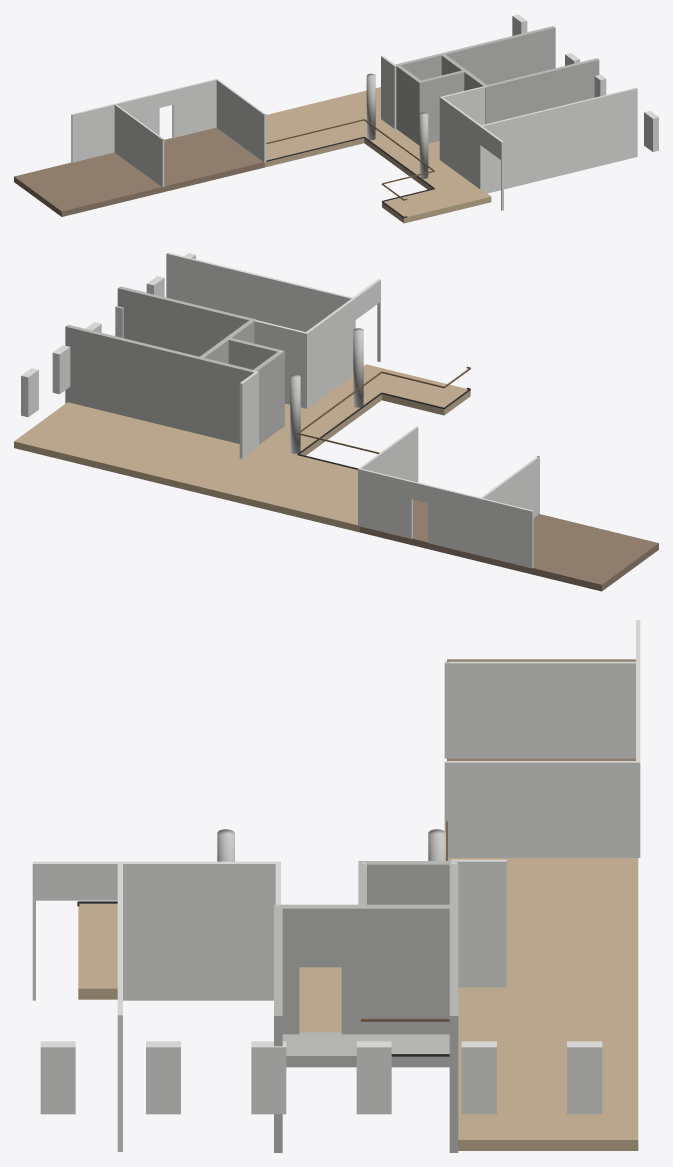
Rendered from SM_Bygg_Helgasetr_P4_O_MN.fbx.
The picture shows the model from 3 angles, top to bottom: view 1: azimuth 30°, elevation 25°; view 2: azimuth 150°, elevation 25°; view 3: azimuth 270°, elevation 25°; orthographic projection. The views are drawn at different scales.
Visible parts, largest first — view 1: SM_Bygg_Helgasetr_P4_O_MN; view 2: SM_Bygg_Helgasetr_P4_O_MN; view 3: SM_Bygg_Helgasetr_P4_O_MN.
Part boxes in pixels (x1,y1,x2,y2): SM_Bygg_Helgasetr_P4_O_MN: [14, 14, 658, 223]; SM_Bygg_Helgasetr_P4_O_MN: [14, 252, 658, 591]; SM_Bygg_Helgasetr_P4_O_MN: [32, 620, 640, 1152].
Size of the model in its own units: 17.31 by 32.6 by 4.3.
